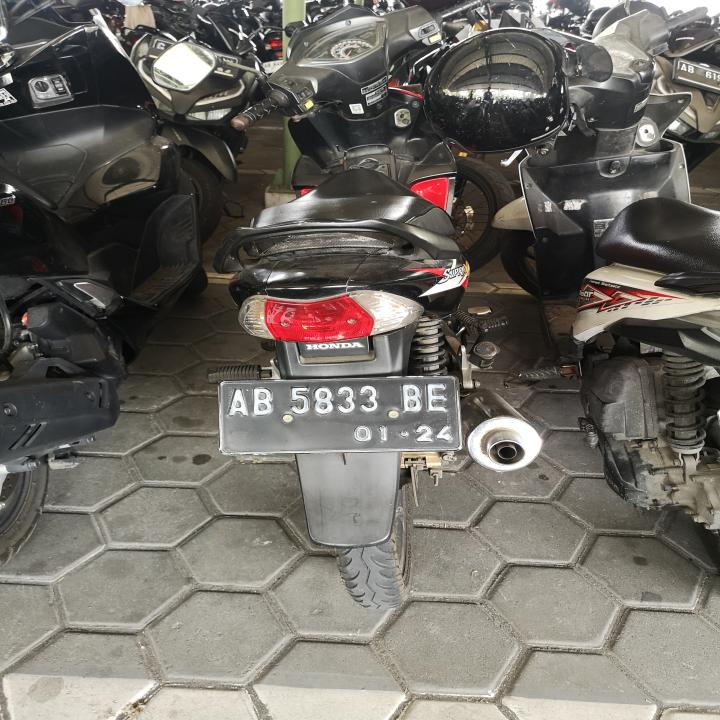plate: (214, 371, 463, 458)
